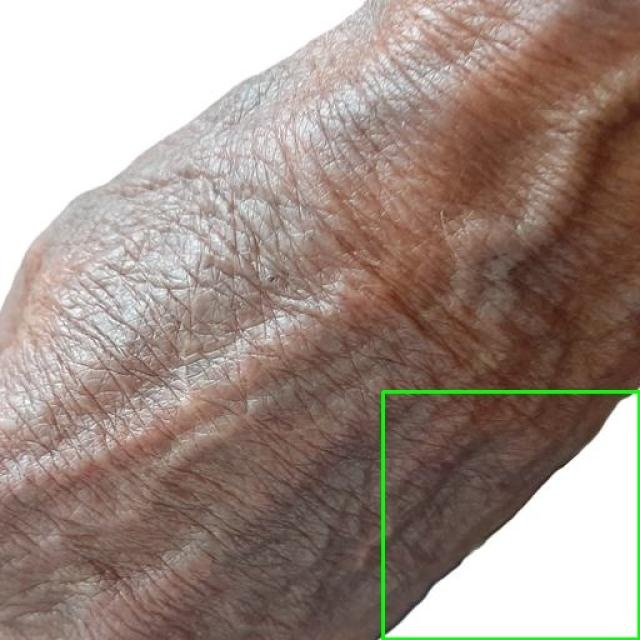Eczema: (382, 391, 639, 639)
